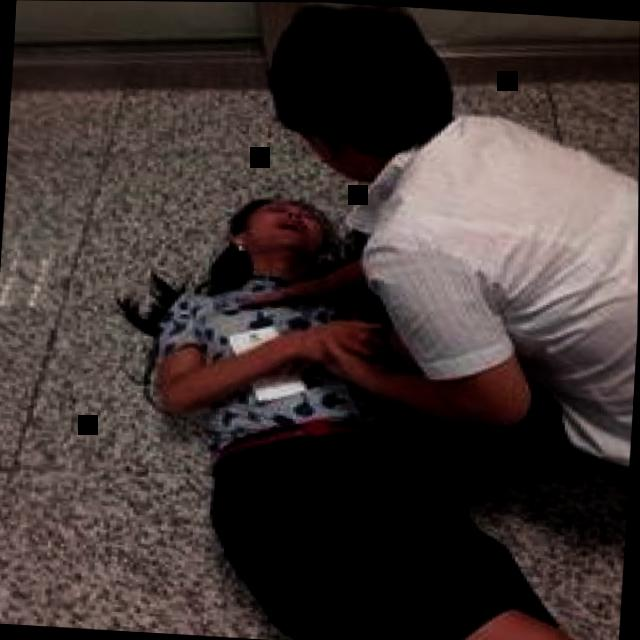Fall-Detected: (90, 166, 636, 640)
